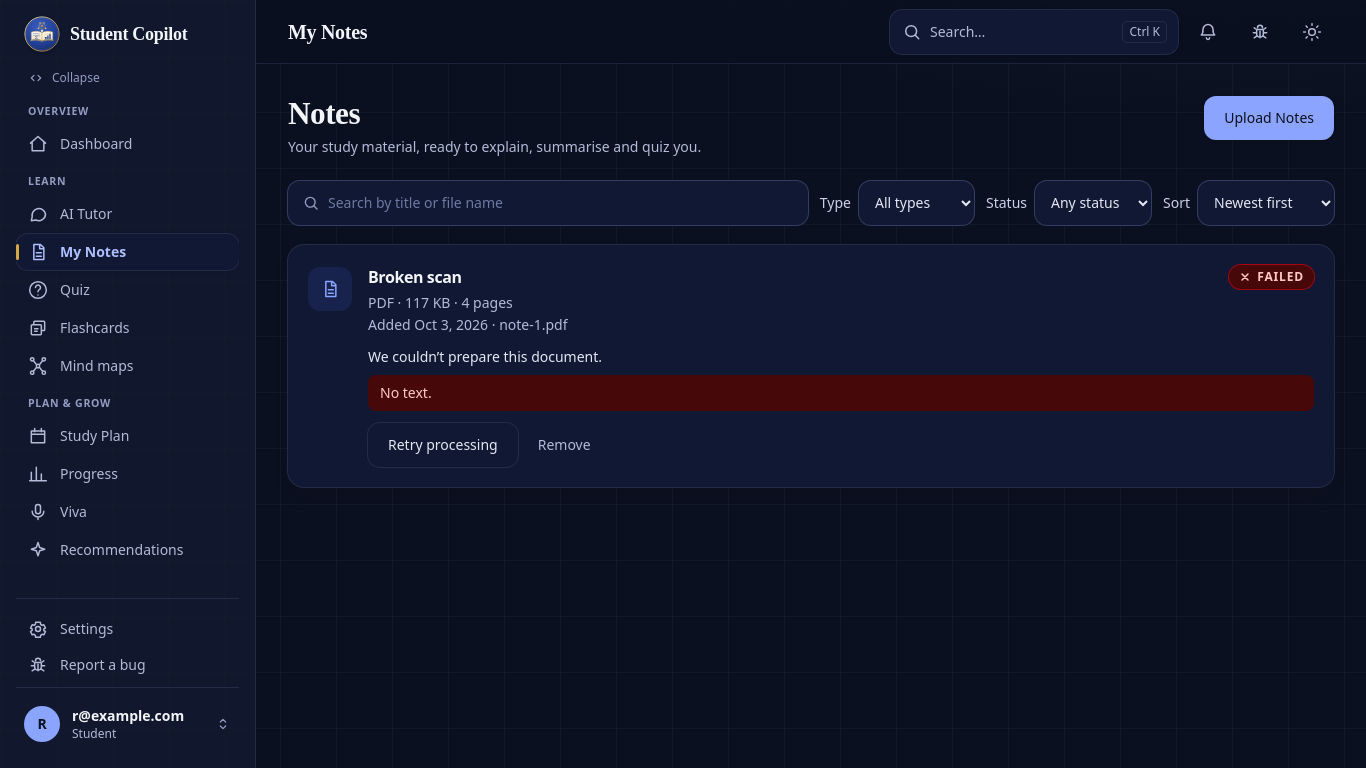
it: library states › retrying a failed note processes it
Click the button "Retry processing" at (443, 445), box x1=368 y1=423 x2=518 y2=467
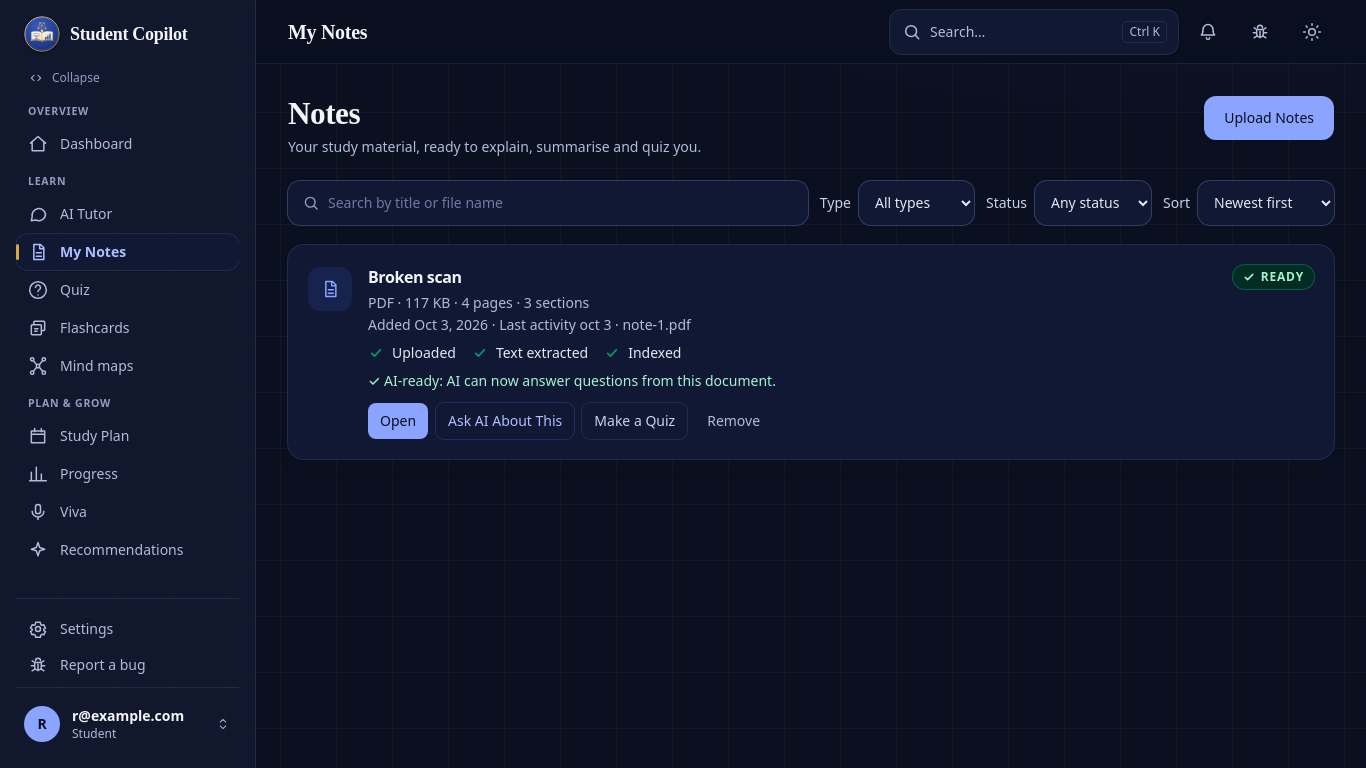
Check: the text "Ready" is shown, box x1=1233 y1=265 x2=1314 y2=289
